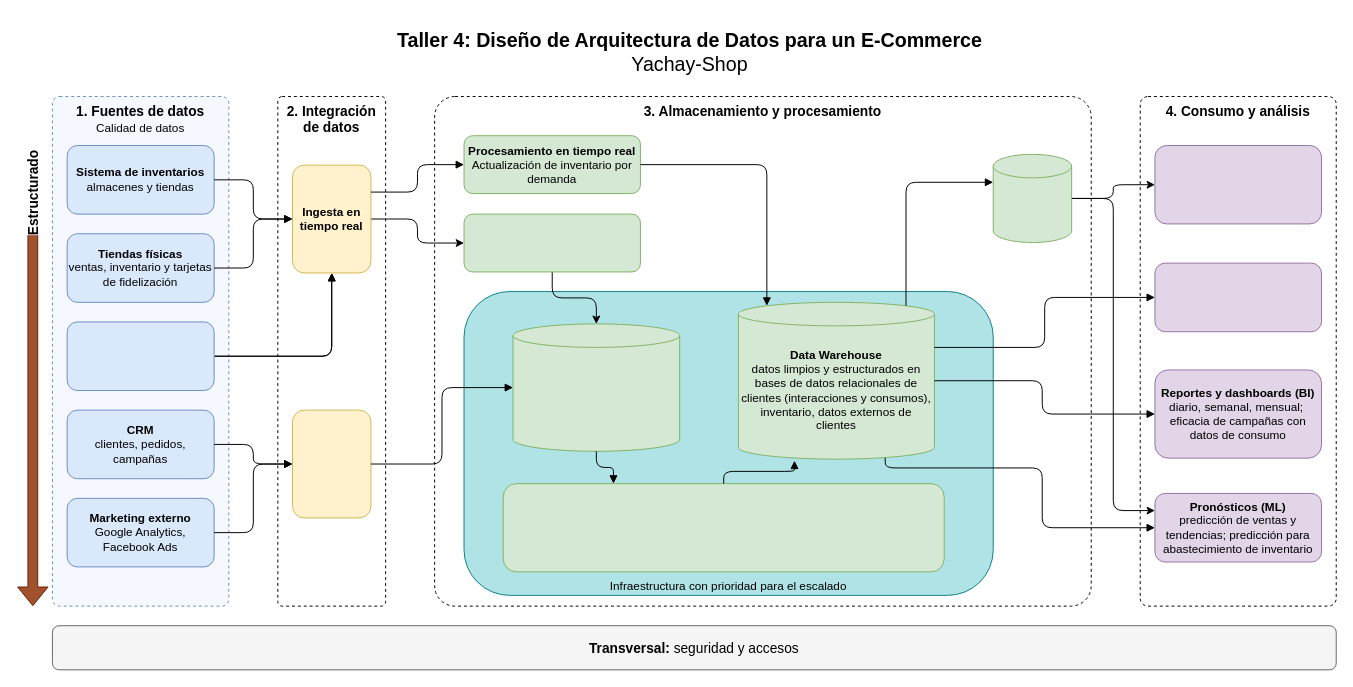
Some shapes in this 1353 by 687 pixel diagram are drawn without their labels. The centre of each missing label's shape, as x and y in pixels:
"Data Lake Repositorio de todo: estructurado, semiestructurado y no estructurado" goes at (596,387).
"Data Marts Inventario" goes at (1032,198).
"Ingesta por lotes API" goes at (331,463).
"Inventario en tiempo real web, app y tiendas" goes at (1238,184).
"Procesamiento en tiempo real Interacciones y compras" goes at (551,242).
"Sitio web y app móvil clics, navegación, compras en línea" goes at (140,356).
"Transformación (ETL) Limpieza, unificar formatos e ID de cliente" goes at (723,527).
"Vista 360 del cliente historial completo por cliente" goes at (1238,297).
